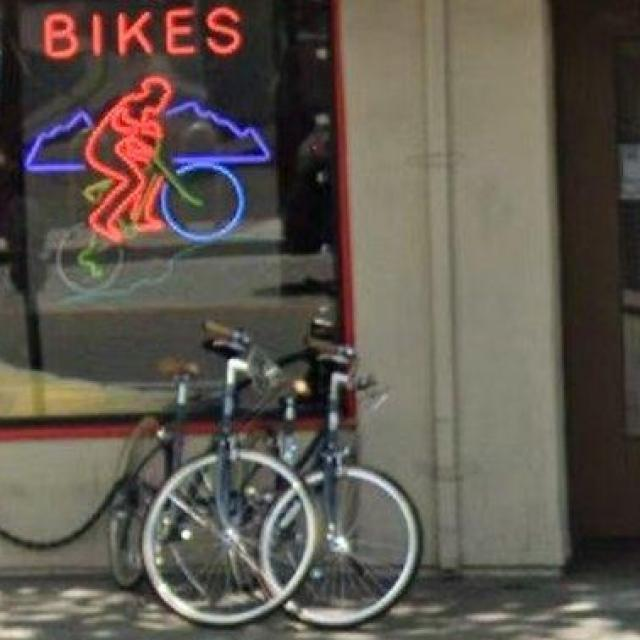bicycle: (105, 326, 425, 630)
